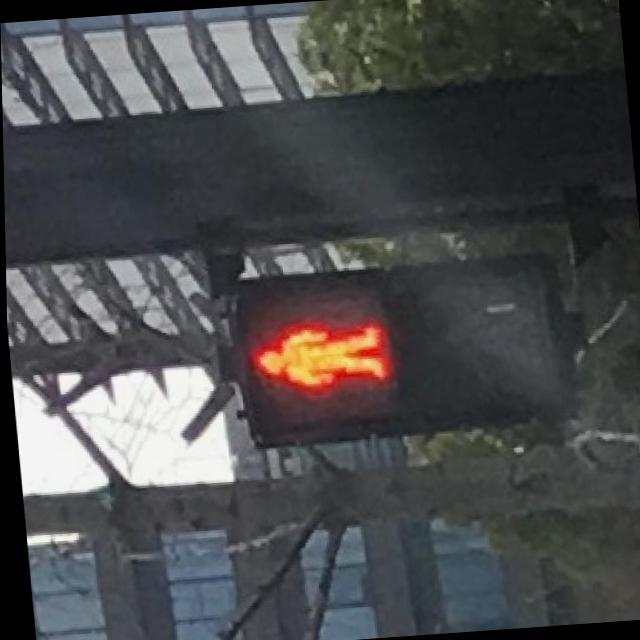red_light: (238, 285, 398, 429)
